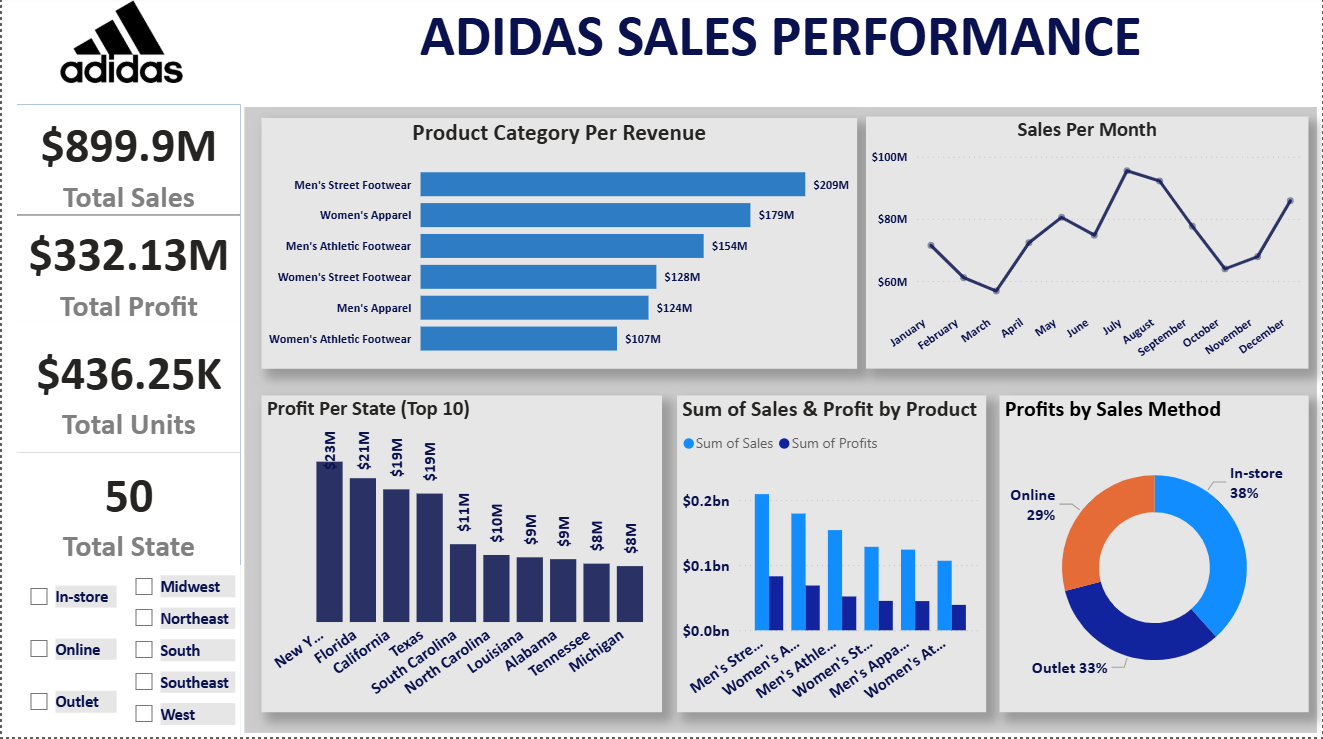

Layout of this report page (visuals, bound fields, positions):
{"tool":"powerbi","page":{"name":"Page 1","canvas":[1280,720],"ordinal":0},"visuals":[{"type":"shape","box":[15,106.7,216.7,611.7],"z":0},{"type":"textbox","box":[231.7,0,1048.3,90],"z":1000},{"type":"card","fields":{"Values":["Dataset.Total Profit"]},"box":[15,213.3,216.7,103.3],"z":2000},{"type":"card","fields":{"Values":["Dataset.Total Units"]},"box":[15,316.7,216.7,126.7],"z":3000},{"type":"card","fields":{"Values":["Dataset.Total State"]},"box":[15,443.3,216.7,110],"z":4000},{"type":"shape","box":[231.7,105,1048.3,615],"z":5000},{"type":"clusteredBarChart","title":"Product Category Per Revenue","fields":{"Category":["Dataset.Product"],"Y":["Sum(Dataset.Sales)"]},"box":[252,120,578,243],"z":6000},{"type":"lineChart","title":"Sales Per Month","fields":{"Y":["Sum(Dataset.Sales)"],"Category":["Dataset.Invoice Date.Variation.Date Hierarchy.Month"]},"box":[838.8,118.2,429.1,244.5],"z":7000},{"type":"clusteredColumnChart","title":"Profit Per State (Top 10)","fields":{"Category":["Dataset.State"],"Y":["Sum(Dataset.Operating Profit)"]},"box":[251.7,389.1,388.3,307.5],"z":8000},{"type":"clusteredColumnChart","title":"Sum of Sales & Profit by Product","fields":{"Y":["Sum(Dataset.Sales)","Sum(Dataset.Operating Profit)"],"Category":["Dataset.Product"]},"box":[655,389.1,300,307.5],"z":9000},{"type":"donutChart","title":"Profits by Sales Method","fields":{"Y":["Sum(Dataset.Operating Profit)"],"Category":["Dataset.Sales Method"]},"box":[968.3,389.1,300,307.5],"z":10000},{"type":"image","box":[0,0,232,90],"z":11000},{"type":"card","fields":{"Values":["Dataset.Total Sales"]},"box":[15,105.9,216.7,106.7],"z":12000},{"type":"slicer","fields":{"Values":["Dataset.Sales Method"]},"box":[15,553.3,101.7,165],"z":13000},{"type":"slicer","fields":{"Values":["Dataset.Region"]},"box":[116.7,553.3,115,166.7],"z":14000}]}

Visuals, with their boxes in screenshot pixels (x1, y1, x2, y2), scaled from the page's 1280x720 canvas onto the 1323x739 screenshot:
shape: [16,110,239,737]
textbox: [239,0,1322,92]
card - Dataset.Total Profit: [16,219,239,325]
card - Dataset.Total Units: [16,325,239,455]
card - Dataset.Total State: [16,455,239,568]
shape: [239,108,1322,738]
"Product Category Per Revenue" clusteredBarChart: [260,123,858,373]
"Sales Per Month" lineChart: [867,121,1310,372]
"Profit Per State (Top 10)" clusteredColumnChart: [260,399,662,715]
"Sum of Sales & Profit by Product" clusteredColumnChart: [677,399,987,715]
"Profits by Sales Method" donutChart: [1001,399,1311,715]
image: [0,0,240,92]
card - Dataset.Total Sales: [16,109,239,218]
slicer - Dataset.Sales Method: [16,568,121,737]
slicer - Dataset.Region: [121,568,239,738]
